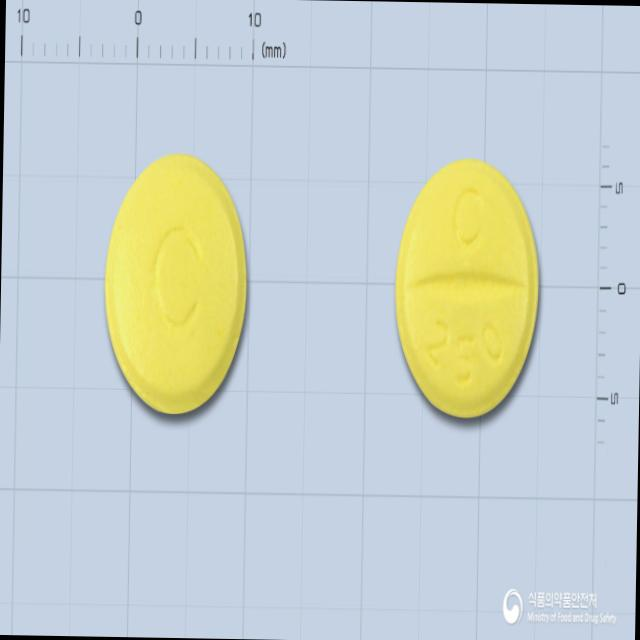C-Clarin: (99, 146, 254, 422)
